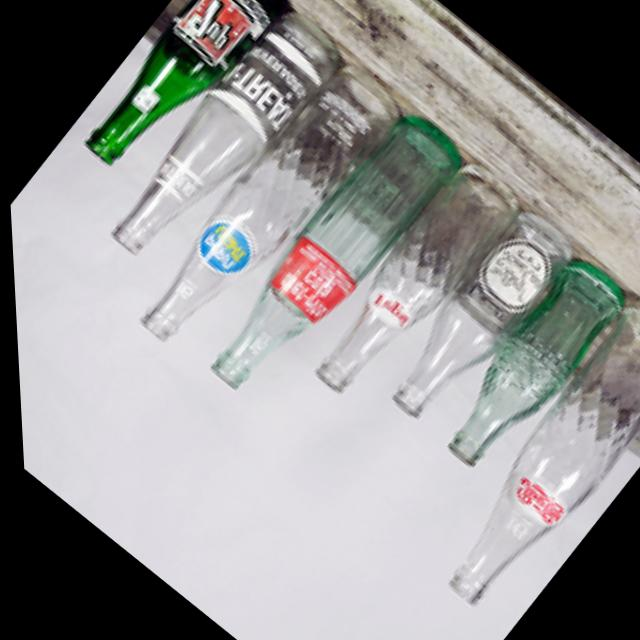glass_beverage_bottles: (101, 40, 426, 382), (177, 98, 481, 422), (402, 291, 640, 625), (84, 0, 360, 284), (289, 155, 536, 416), (359, 203, 586, 441), (420, 254, 638, 482), (69, 0, 303, 194)
